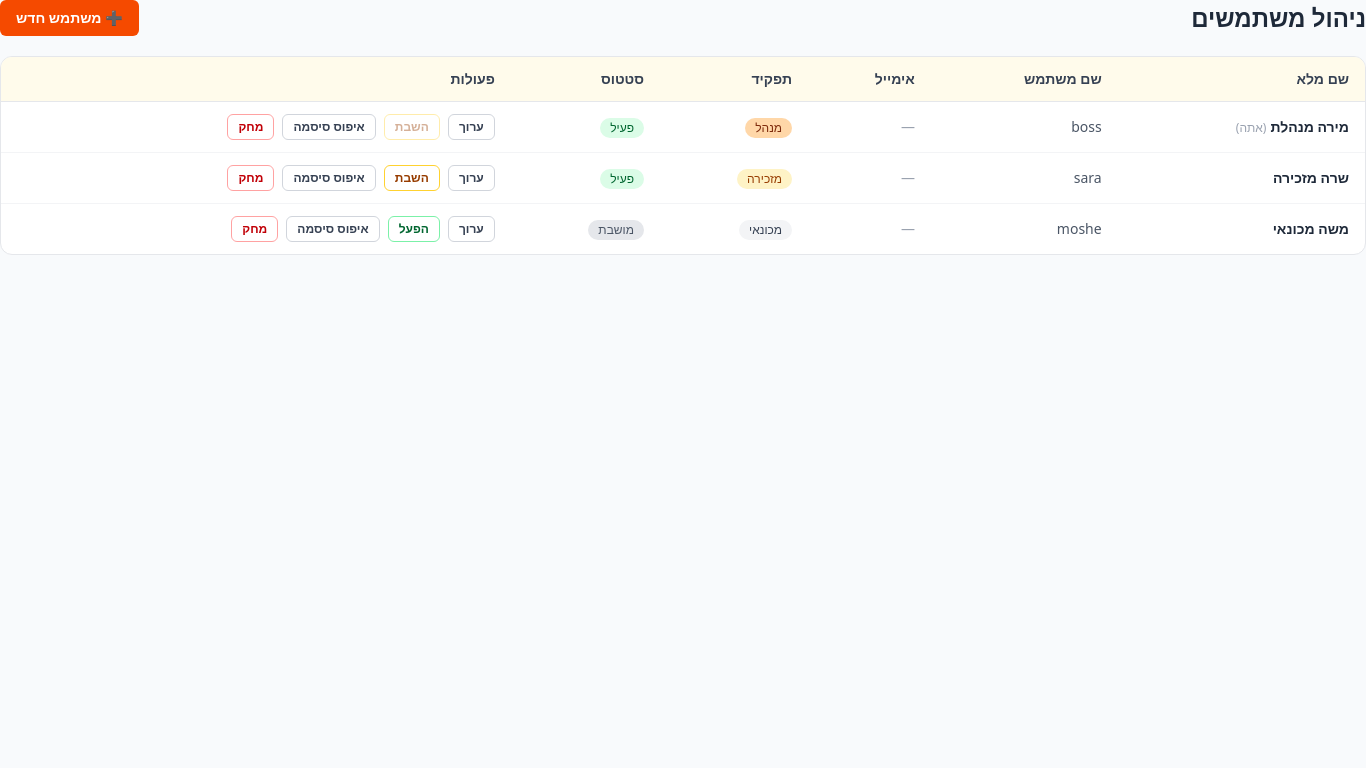
Scenario: UsersPage — delete user › shows a "cannot delete self" backend error in Hebrew
Expected: the table named "טבלת משתמשים" is shown, [1, 57, 1365, 254]
Click the button "מחק" in the row of "מירה מנהלת" at (251, 127), box [228, 114, 274, 140]
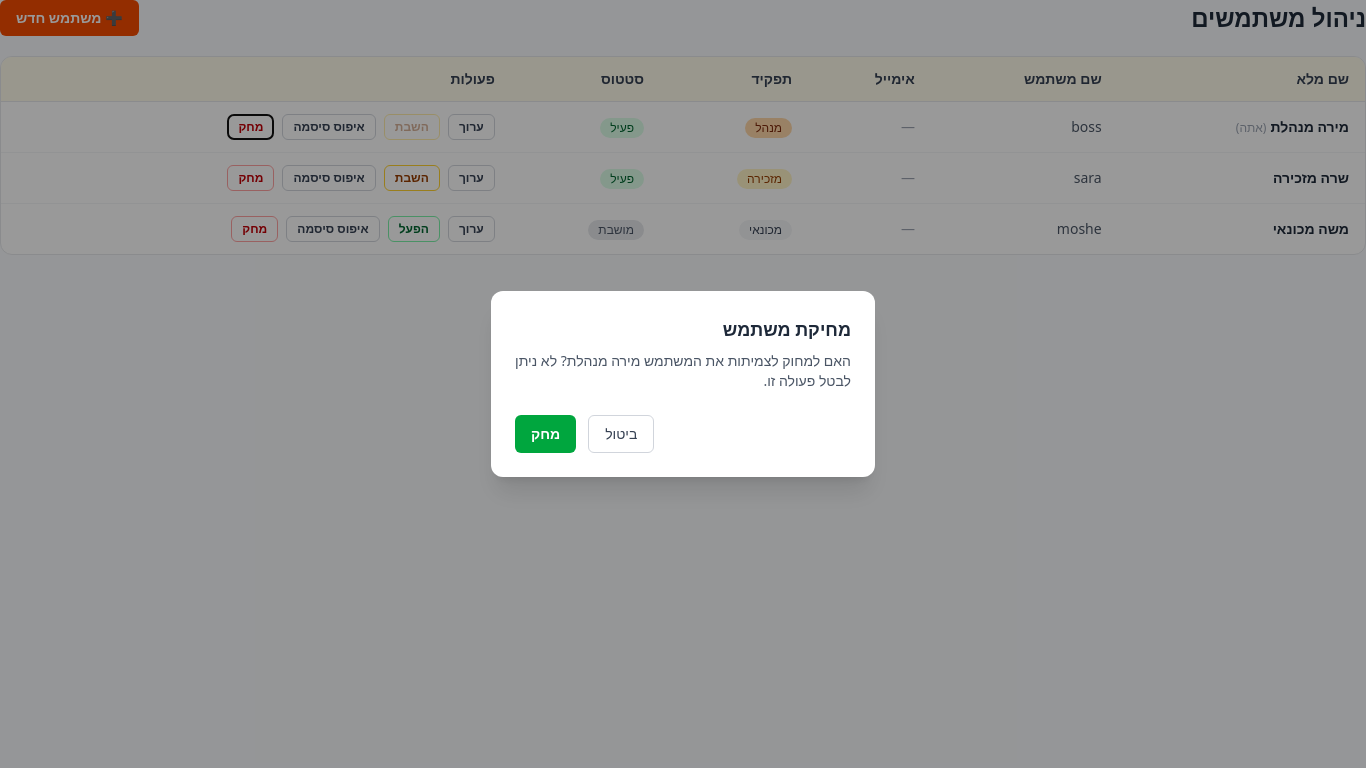
Click the button "מחק" at (546, 434), box [515, 415, 576, 453]
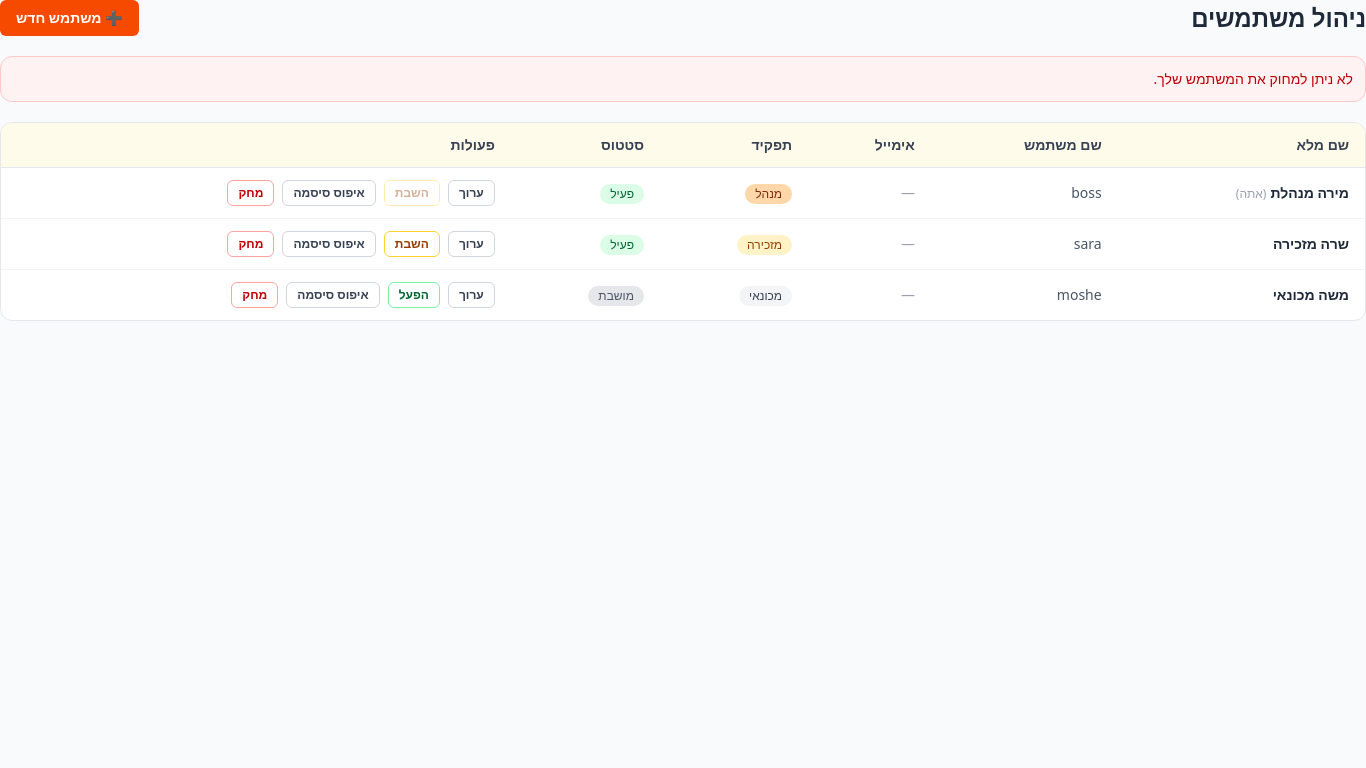
Expected: the text "לא ניתן למחוק את המשתמש שלך." is shown, [0, 56, 1365, 102]
